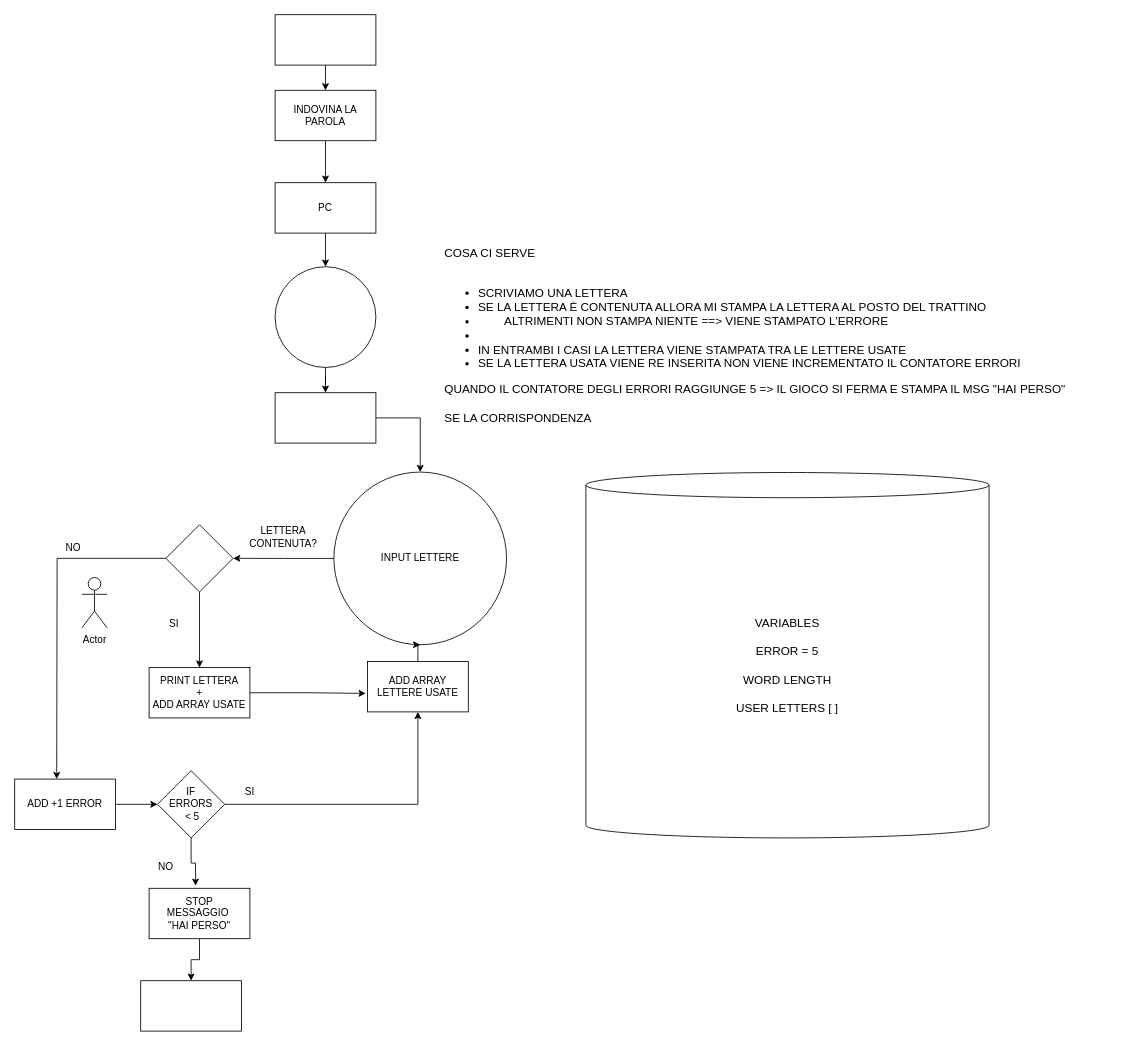
The diagram is 1138 pixels wide and 1046 high, and some of its shapes have lost their labels. Each missing label, with the centre of its shape:
"ARRAY PAROLE" goes at pixel 325 317.
"END" goes at pixel 191 1005.
"IF" goes at pixel 199 558.
"PAROLA ESTRATTA -------- LUNGHEZZA LETTERE PAROLA" goes at pixel 325 417.
"START" goes at pixel 325 39.
